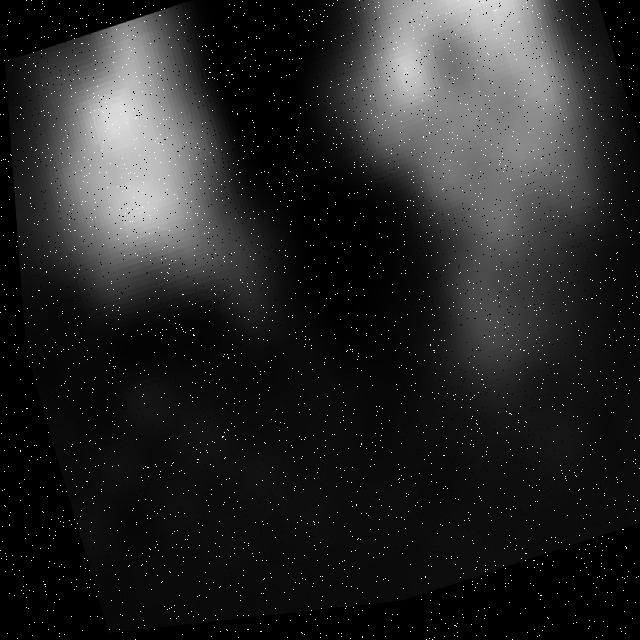person: (292, 1, 640, 500), (9, 1, 311, 423)
